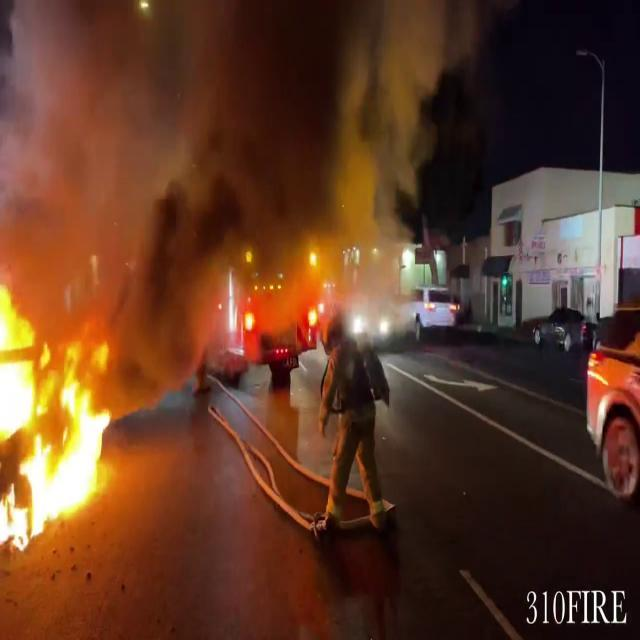Fire: (0, 268, 118, 552)
Smoke: (1, 0, 468, 347)
